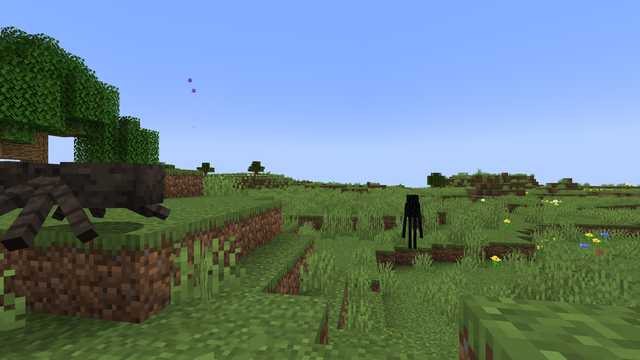araignees: (4, 148, 163, 250)
endermens: (405, 193, 418, 248)
